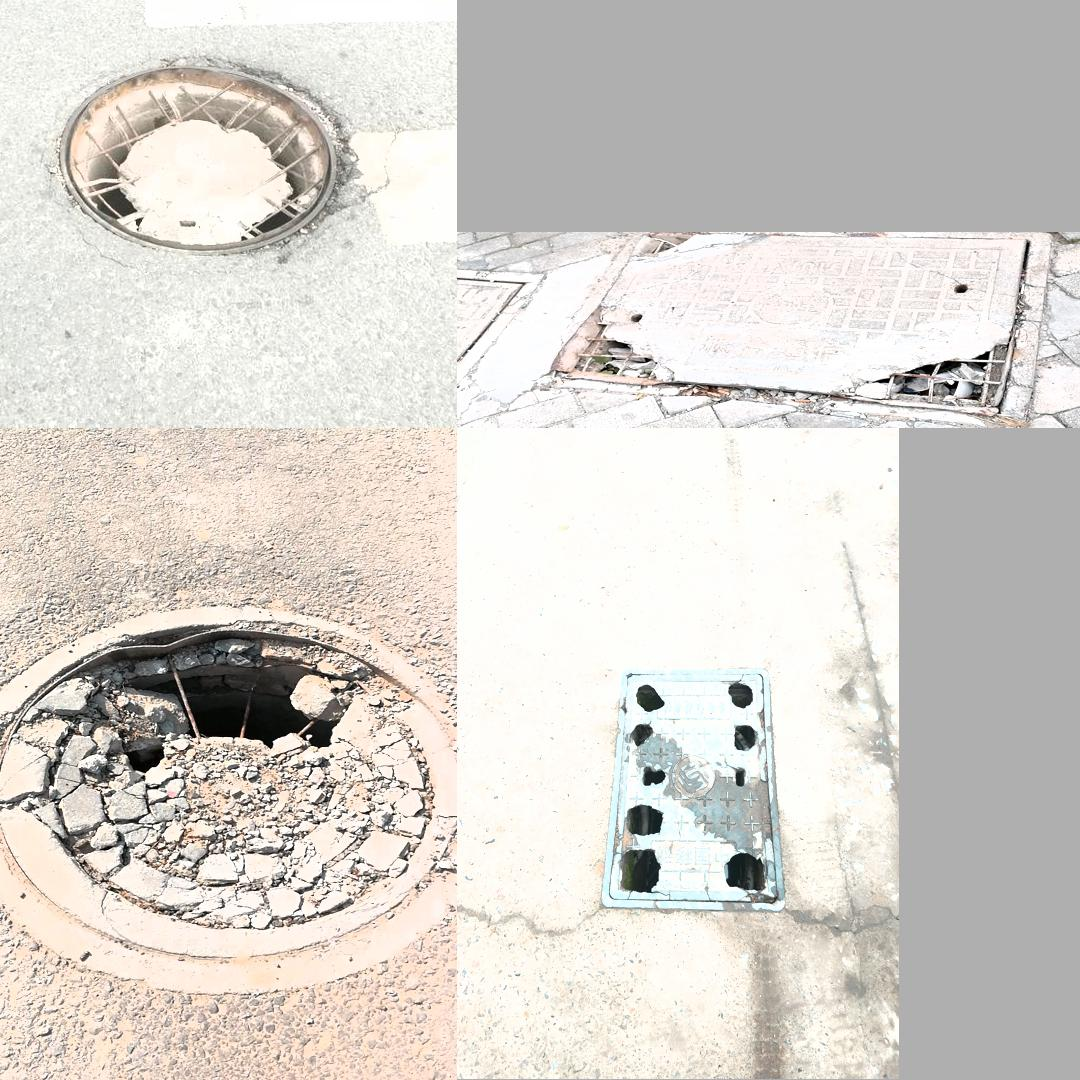broke: (0, 609, 456, 993), (568, 233, 1024, 413), (44, 43, 360, 261), (600, 669, 786, 913)
